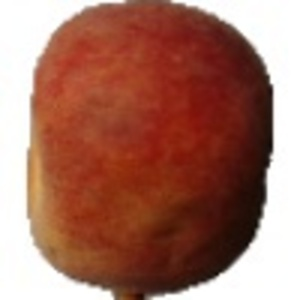pêssego: (24, 1, 276, 300)
